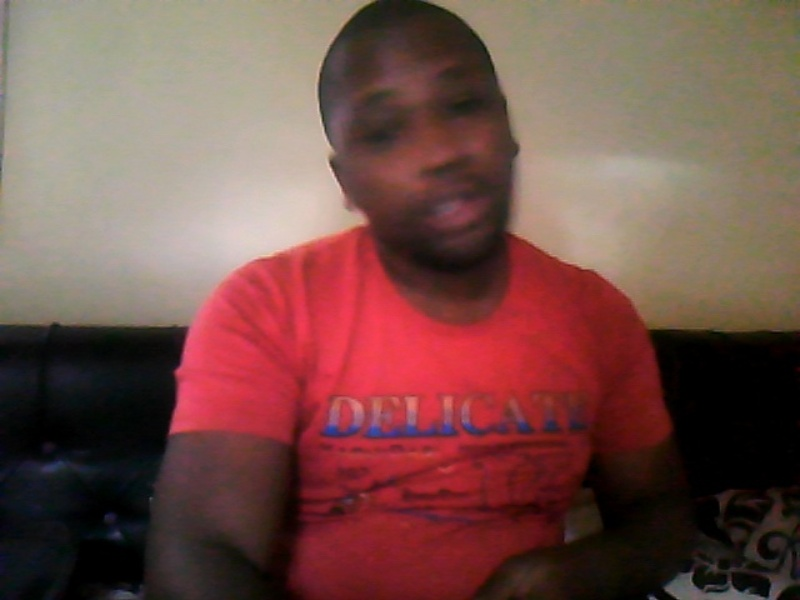TsisyArotava: (309, 9, 533, 277)
